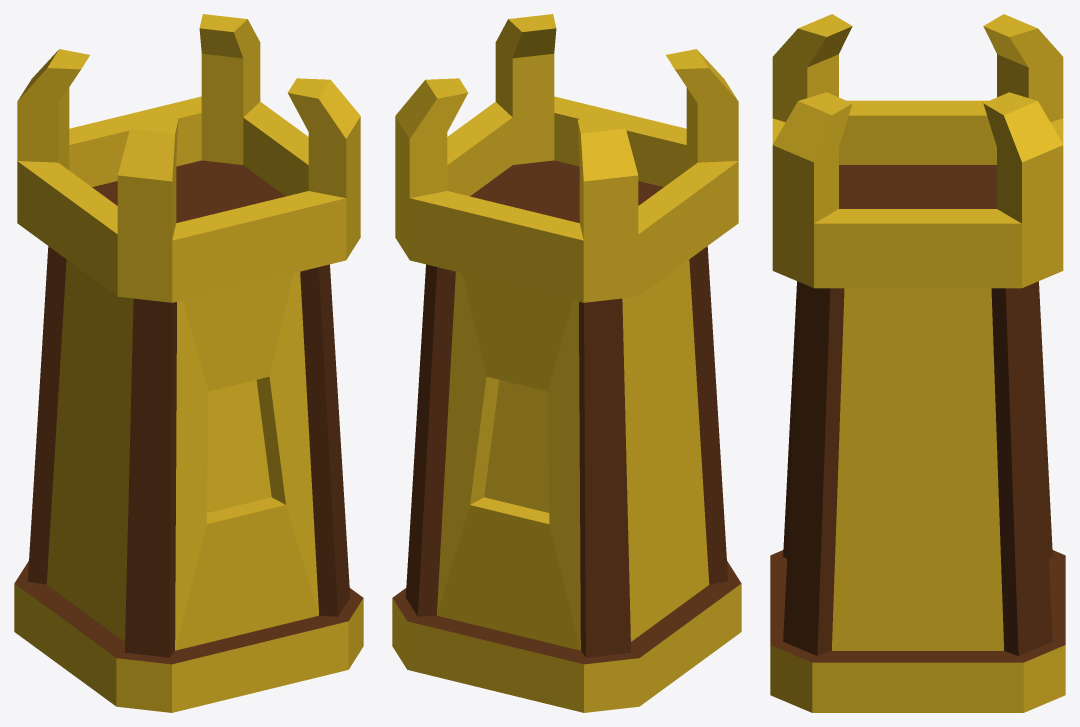
File: Muro_Nv4.glb
The picture shows the model from 3 angles, left to right: view 1: azimuth 30°, elevation 25°; view 2: azimuth 150°, elevation 25°; view 3: azimuth 270°, elevation 25°; orthographic projection. The views are drawn at different scales.
Visible parts, largest first — view 1: Cube.003; view 2: Cube.003; view 3: Cube.003.
Part boxes in pixels (left/top/right/bottom): Cube.003: left=14, top=14, right=363, bottom=712; Cube.003: left=392, top=14, right=741, bottom=712; Cube.003: left=770, top=14, right=1065, bottom=712.
Bounding box in the file's own units: 1.08 × 2.35 × 1.08.
